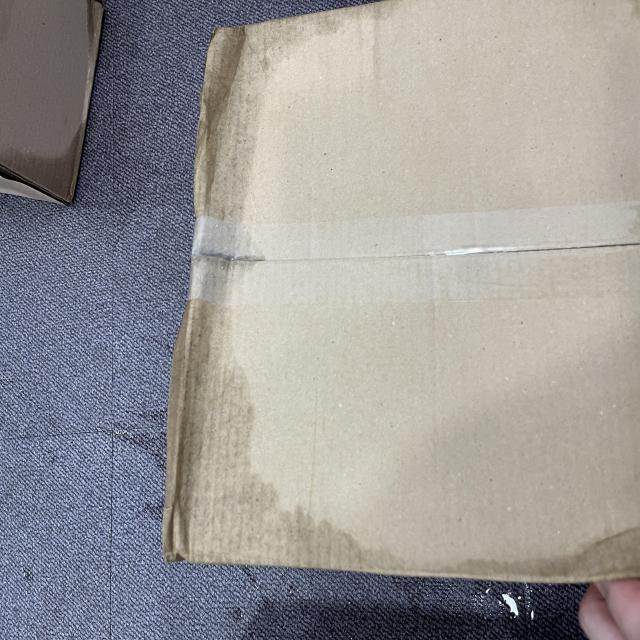wet: (58, 225, 264, 514), (309, 264, 475, 512), (41, 578, 92, 640)
